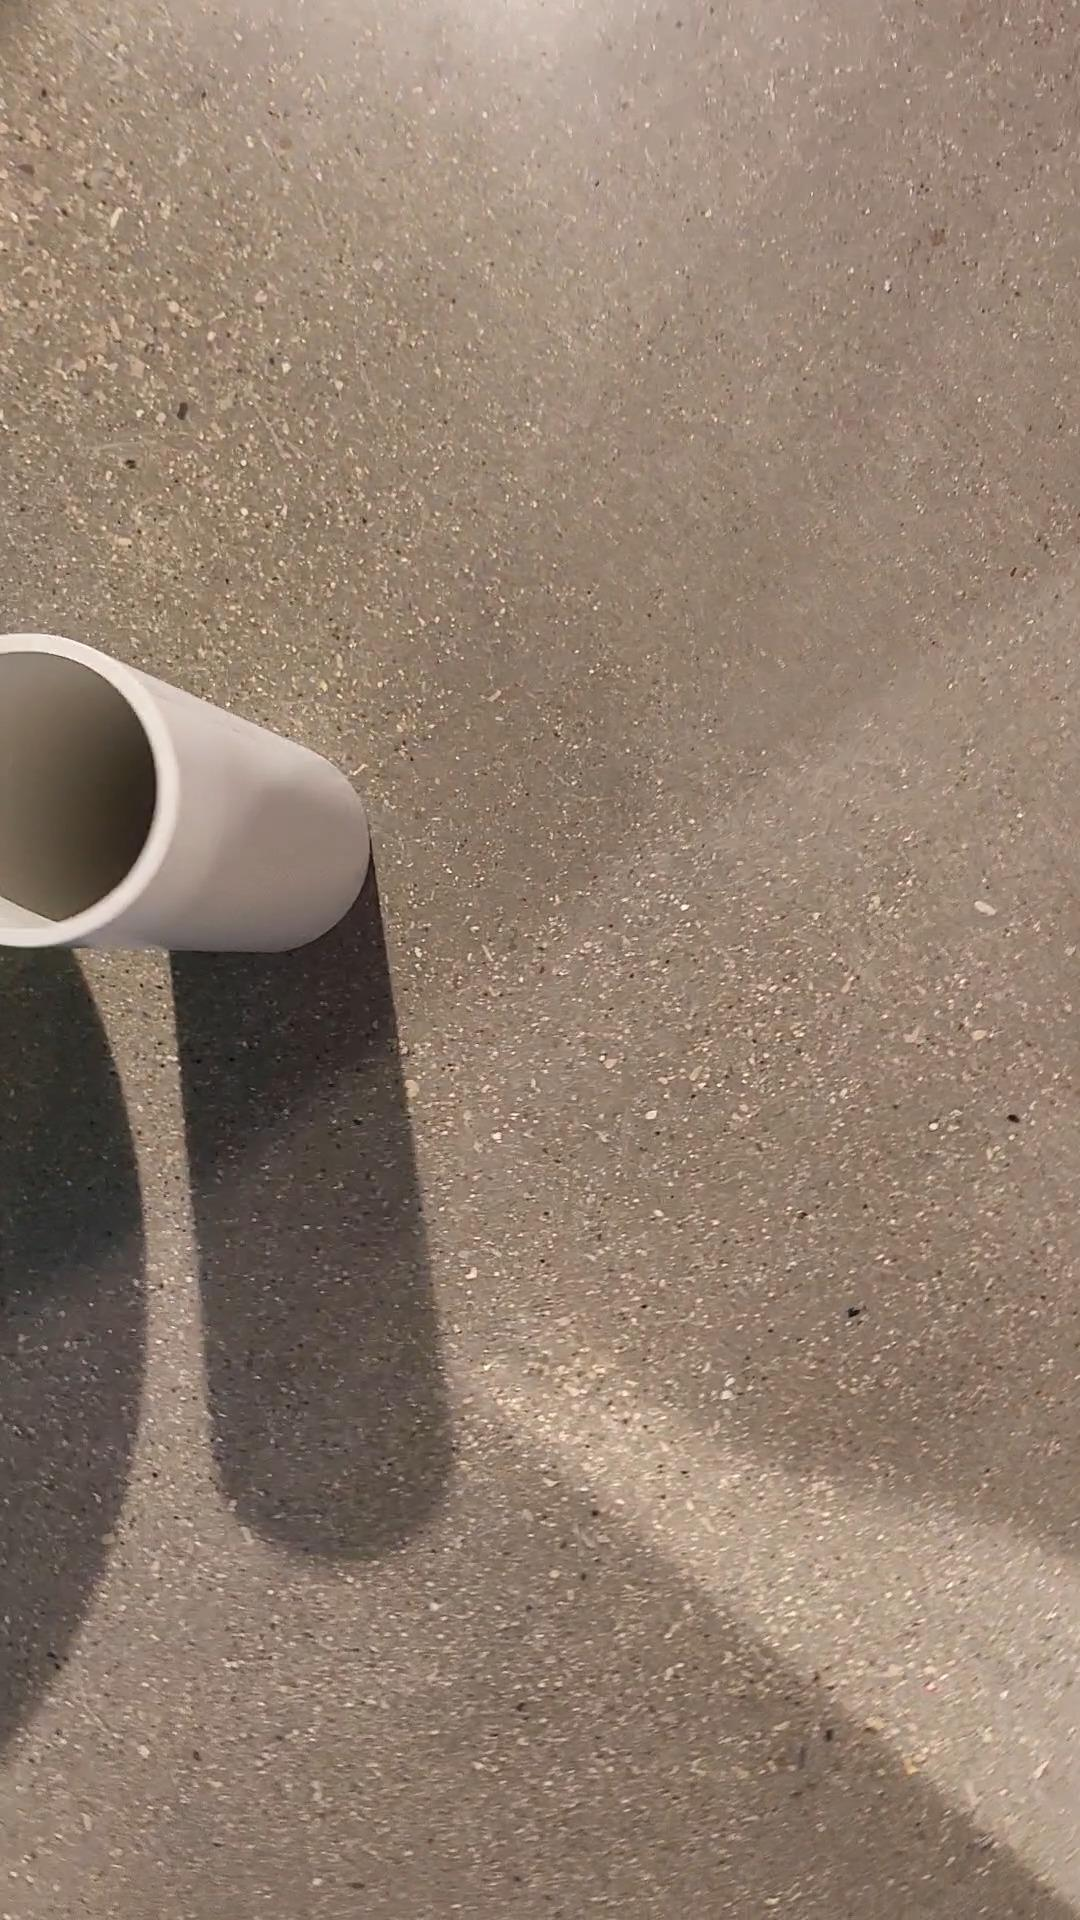coral: (0, 630, 375, 955)
